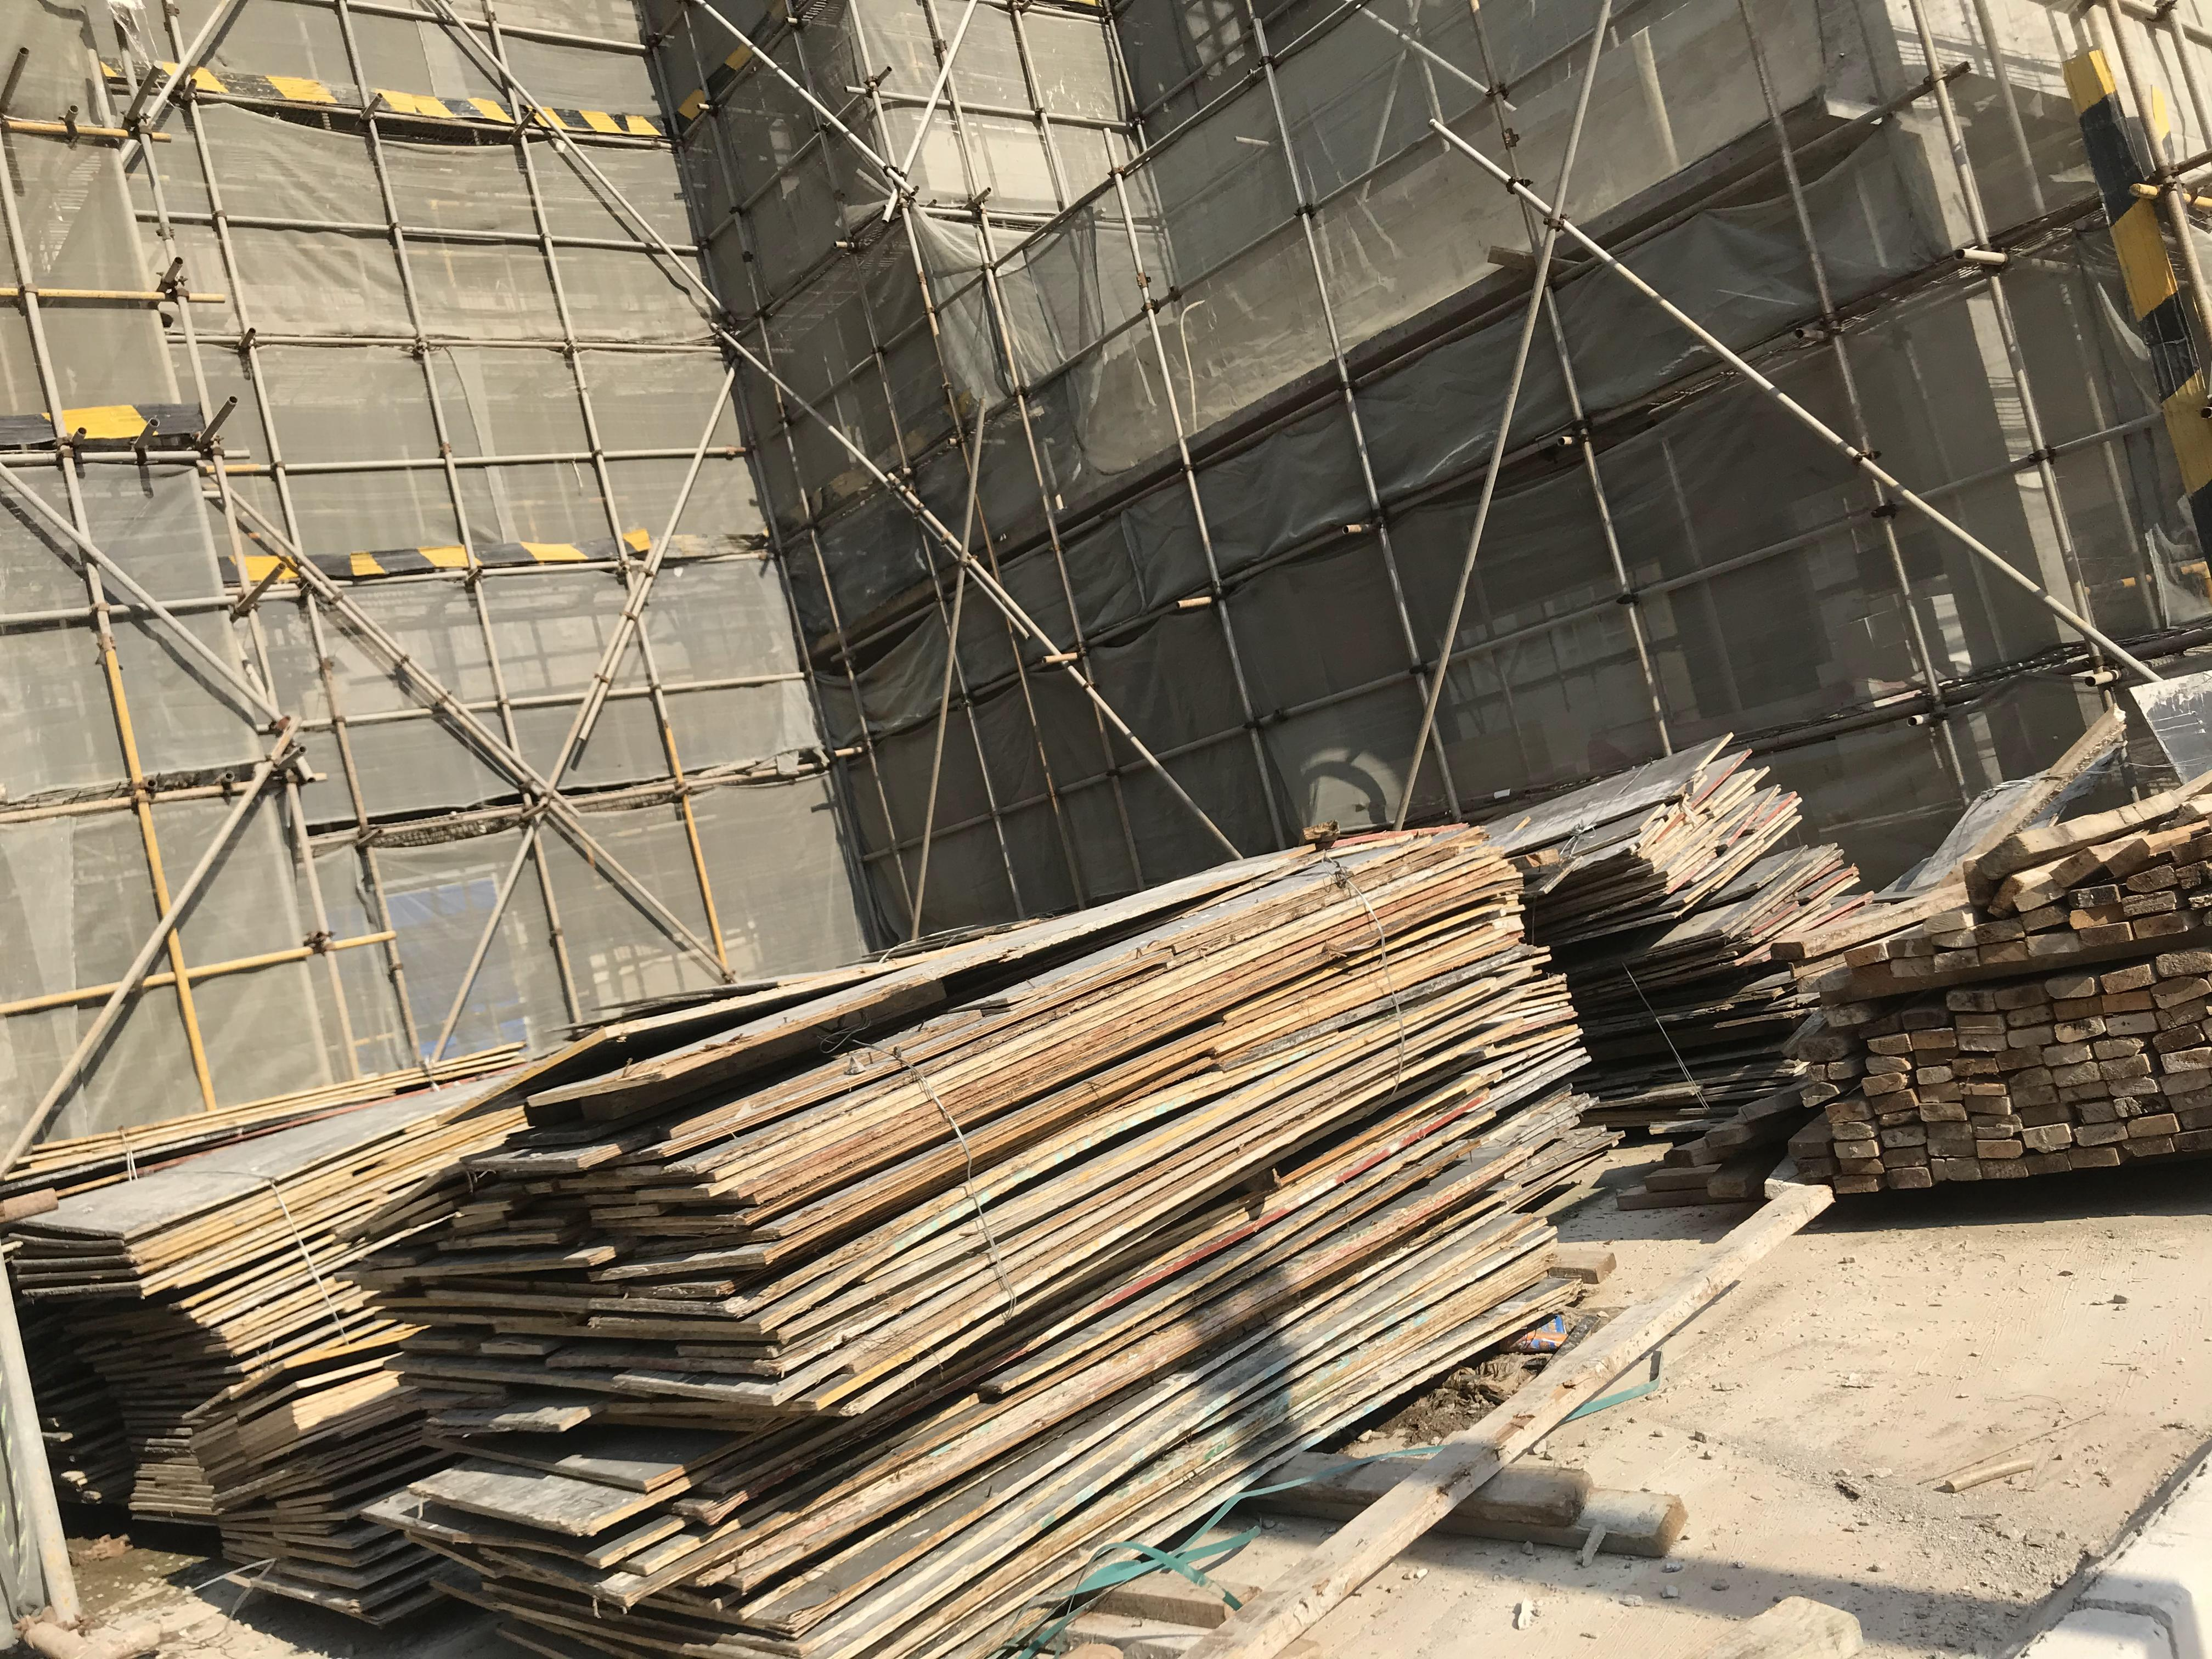board: (380, 779, 1526, 1659), (23, 992, 719, 1403), (1475, 735, 1886, 1112), (148, 1323, 495, 1615)
wood: (1818, 718, 2212, 1225)
